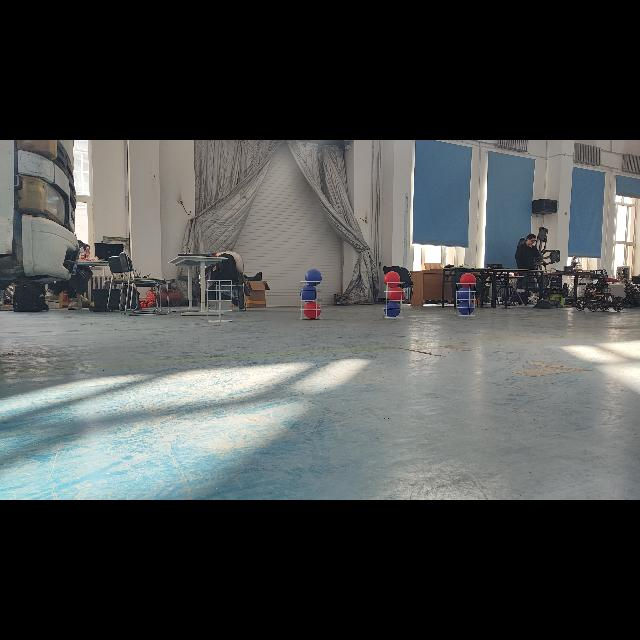B: (300, 284, 318, 302), (304, 268, 322, 286), (457, 300, 475, 316), (384, 302, 400, 318), (456, 287, 472, 301)
R: (303, 302, 321, 318), (459, 272, 476, 288), (384, 271, 400, 287), (388, 286, 404, 302)
S: (202, 278, 236, 324), (297, 278, 325, 322), (381, 280, 407, 320), (454, 282, 478, 320)
